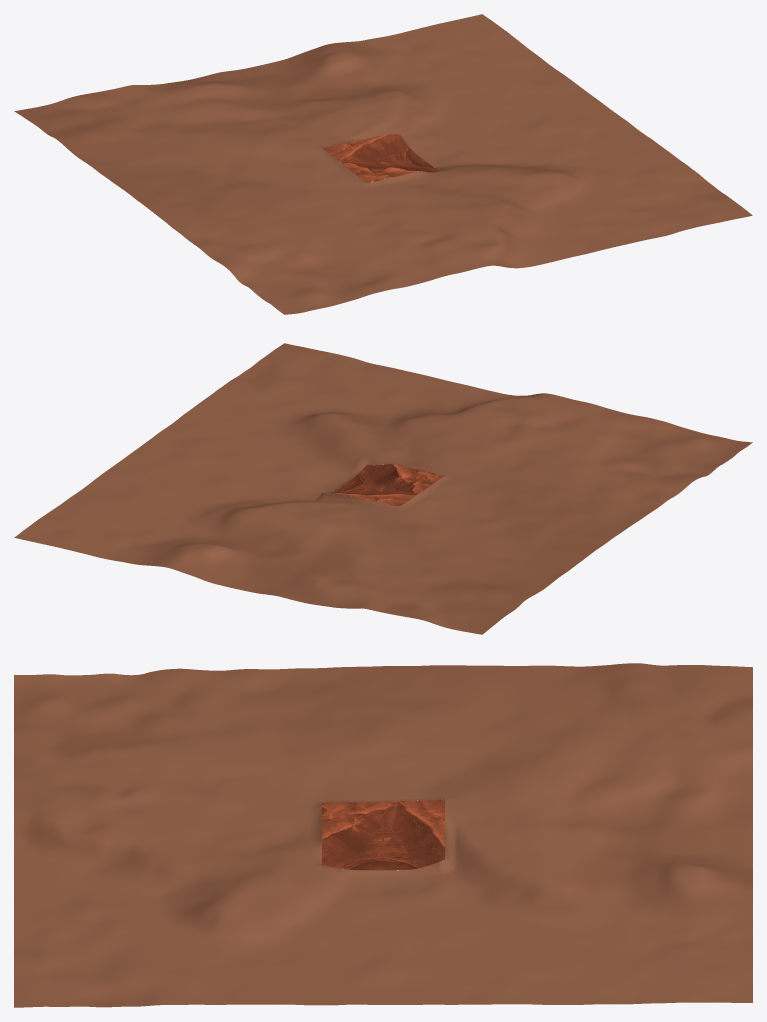
Rendered from Jezero Terrain.glb.
3 views of the same model, one above another, from view 1: azimuth 30°, elevation 25°; view 2: azimuth 150°, elevation 25°; view 3: azimuth 270°, elevation 25° (orthographic). The views are drawn at different scales.
Visible parts, largest first — view 1: CTX horizon | 3 km context, 500 m walkable sector; view 2: CTX horizon | 3 km context, 500 m walkable sector; view 3: CTX horizon | 3 km context, 500 m walkable sector.
Part boxes in pixels (x1=…): CTX horizon | 3 km context: x1=14, y1=14, x2=752, y2=314; 500 m walkable sector: x1=322, y1=134, x2=441, y2=182; CTX horizon | 3 km context: x1=14, y1=343, x2=752, y2=634; 500 m walkable sector: x1=330, y1=463, x2=444, y2=505; CTX horizon | 3 km context: x1=14, y1=663, x2=752, y2=1007; 500 m walkable sector: x1=322, y1=799, x2=444, y2=870.
Bounding box in the file's own units: 3000 × 149 × 3000.
4 materials, 1 textured.
